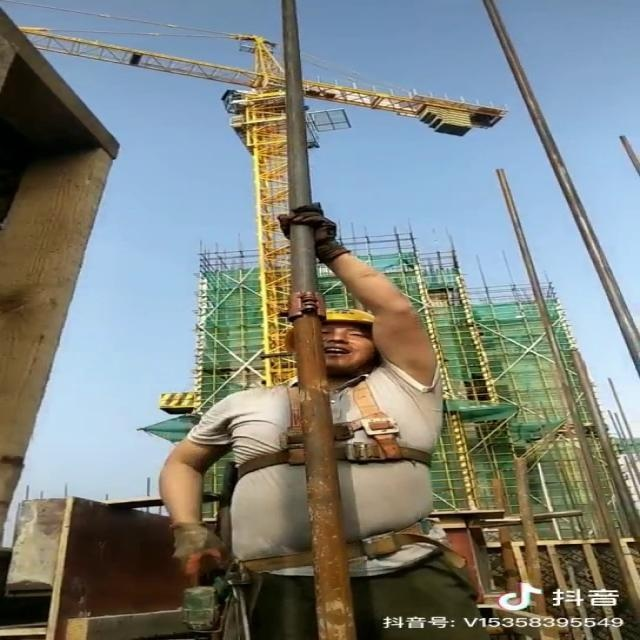Arnes_seguridad: (196, 375, 446, 510)
